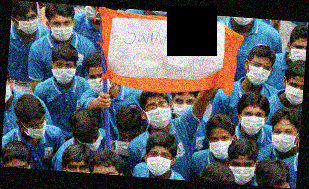with_mask: (145, 99, 172, 130), (269, 126, 298, 154), (88, 70, 114, 99), (50, 61, 77, 87), (229, 159, 256, 185), (146, 148, 171, 176), (208, 132, 232, 160), (241, 109, 265, 137), (247, 59, 271, 86), (49, 17, 75, 41), (171, 96, 195, 121), (23, 116, 46, 140), (283, 80, 303, 106), (16, 12, 38, 35), (79, 132, 103, 153), (288, 42, 306, 63)
